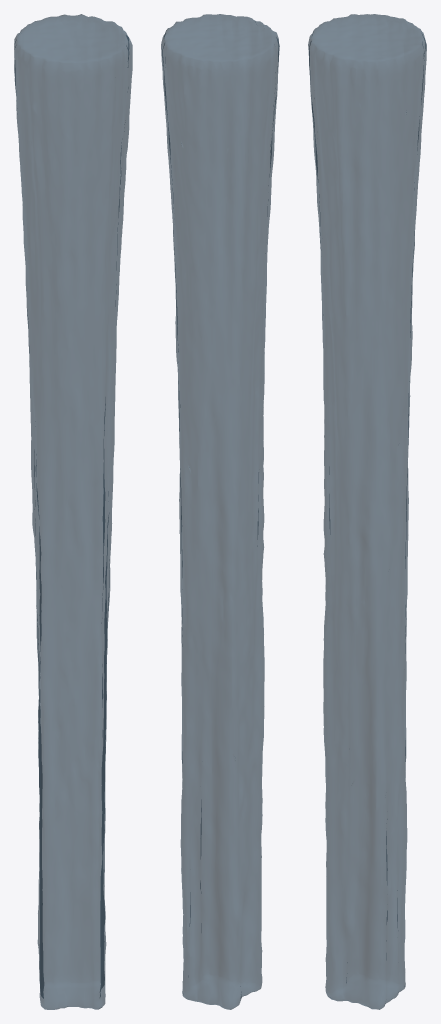
Rendered from water_4.dae.
3 views of the same model, side by side, from view 1: azimuth 90°, elevation 25°; view 2: azimuth 150°, elevation 25°; view 3: azimuth 330°, elevation 25° (orthographic).
Visible parts, largest first — view 1: Water_stream_001; view 2: Water_stream_001; view 3: Water_stream_001.
Part boxes in pixels (x1,y1,x2,y2): Water_stream_001: [14, 14, 132, 1009]; Water_stream_001: [161, 14, 279, 1009]; Water_stream_001: [308, 14, 426, 1009].
Bounding box in the file's own units: 0.0636 × 0.0634 × 0.5663.
